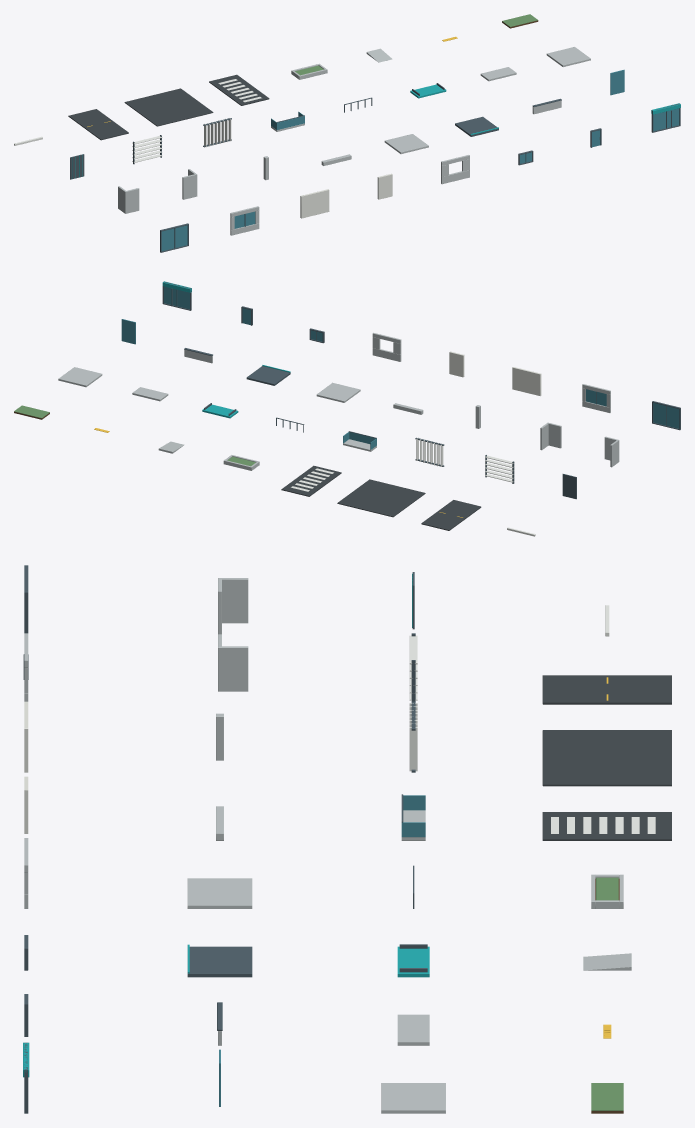
File: PREP_Modular_City_Kit_01.glb
3 renders of one model, top to bottom at view 1: azimuth 30°, elevation 25°; view 2: azimuth 150°, elevation 25°; view 3: azimuth 270°, elevation 25°, orthographic. The views are drawn at different scales.
Parts seen in each view (by area): view 1: MOD_Road_Intersection_01, MOD_Crosswalk_01, MOD_Road_01, MOD_Storefront_01, MOD_Facade_Concrete_A, MOD_Wall_Solid_01, MOD_Facade_Glass_A, MOD_Brise_Vertical_01, MOD_Brise_Horizontal_01, MOD_Wall_Window_01, MOD_Sidewalk_Corner_01, MOD_Slab_01 (+6 smaller); view 2: MOD_Road_Intersection_01, MOD_Crosswalk_01, MOD_Road_01, MOD_Storefront_01, MOD_Wall_Solid_01, MOD_Facade_Concrete_A, MOD_Facade_Glass_A, MOD_Brise_Vertical_01, MOD_Brise_Horizontal_01, MOD_Wall_Window_01, MOD_Roof_01, MOD_Sidewalk_Corner_01 (+4 smaller); view 3: MOD_Road_Intersection_01, MOD_Road_01, MOD_Crosswalk_01, MOD_Roof_01, MOD_Slab_01, MOD_Sidewalk_Corner_01, MOD_Corner_Inner_01, MOD_Corner_Outer_01, MOD_Planter_01, MOD_Balcony_01, MOD_Canopy_01, MOD_Sidewalk_01 (+1 smaller).
Boxes of the visible parts, left/top/right/bottom form: MOD_Road_Intersection_01: left=124, top=88, right=213, bottom=126; MOD_Crosswalk_01: left=209, top=74, right=269, bottom=105; MOD_Road_01: left=68, top=109, right=128, bottom=140; MOD_Storefront_01: left=651, top=103, right=680, bottom=132; MOD_Facade_Concrete_A: left=230, top=206, right=259, bottom=235; MOD_Wall_Solid_01: left=300, top=189, right=329, bottom=218; MOD_Facade_Glass_A: left=160, top=223, right=188, bottom=252; MOD_Brise_Vertical_01: left=203, top=118, right=231, bottom=147; MOD_Brise_Horizontal_01: left=132, top=135, right=162, bottom=164; MOD_Wall_Window_01: left=441, top=155, right=469, bottom=184; MOD_Sidewalk_Corner_01: left=546, top=47, right=590, bottom=66; MOD_Slab_01: left=384, top=134, right=428, bottom=153; MOD_Road_Intersection_01: left=337, top=479, right=425, bottom=517; MOD_Crosswalk_01: left=281, top=465, right=341, bottom=496; MOD_Road_01: left=421, top=500, right=481, bottom=530; MOD_Storefront_01: left=162, top=281, right=191, bottom=310; MOD_Wall_Solid_01: left=512, top=367, right=541, bottom=395; MOD_Facade_Concrete_A: left=582, top=384, right=610, bottom=412; MOD_Facade_Glass_A: left=652, top=401, right=680, bottom=430; MOD_Brise_Vertical_01: left=415, top=437, right=444, bottom=466; MOD_Brise_Horizontal_01: left=485, top=455, right=514, bottom=483; MOD_Wall_Window_01: left=372, top=332, right=401, bottom=361; MOD_Roof_01: left=246, top=365, right=290, bottom=385; MOD_Sidewalk_Corner_01: left=58, top=367, right=102, bottom=387; MOD_Road_Intersection_01: left=542, top=730, right=671, bottom=786; MOD_Road_01: left=542, top=675, right=671, bottom=704; MOD_Crosswalk_01: left=542, top=812, right=671, bottom=840; MOD_Roof_01: left=187, top=944, right=252, bottom=977; MOD_Slab_01: left=187, top=878, right=252, bottom=908; MOD_Sidewalk_Corner_01: left=381, top=1083, right=445, bottom=1113; MOD_Corner_Inner_01: left=218, top=634, right=248, bottom=691; MOD_Corner_Outer_01: left=218, top=578, right=248, bottom=634; MOD_Planter_01: left=591, top=874, right=623, bottom=908; MOD_Balcony_01: left=401, top=794, right=425, bottom=840; MOD_Canopy_01: left=397, top=944, right=429, bottom=977; MOD_Sidewalk_01: left=397, top=1014, right=429, bottom=1045.
Size of the model in its own units: 74 by 3 by 40.2.
